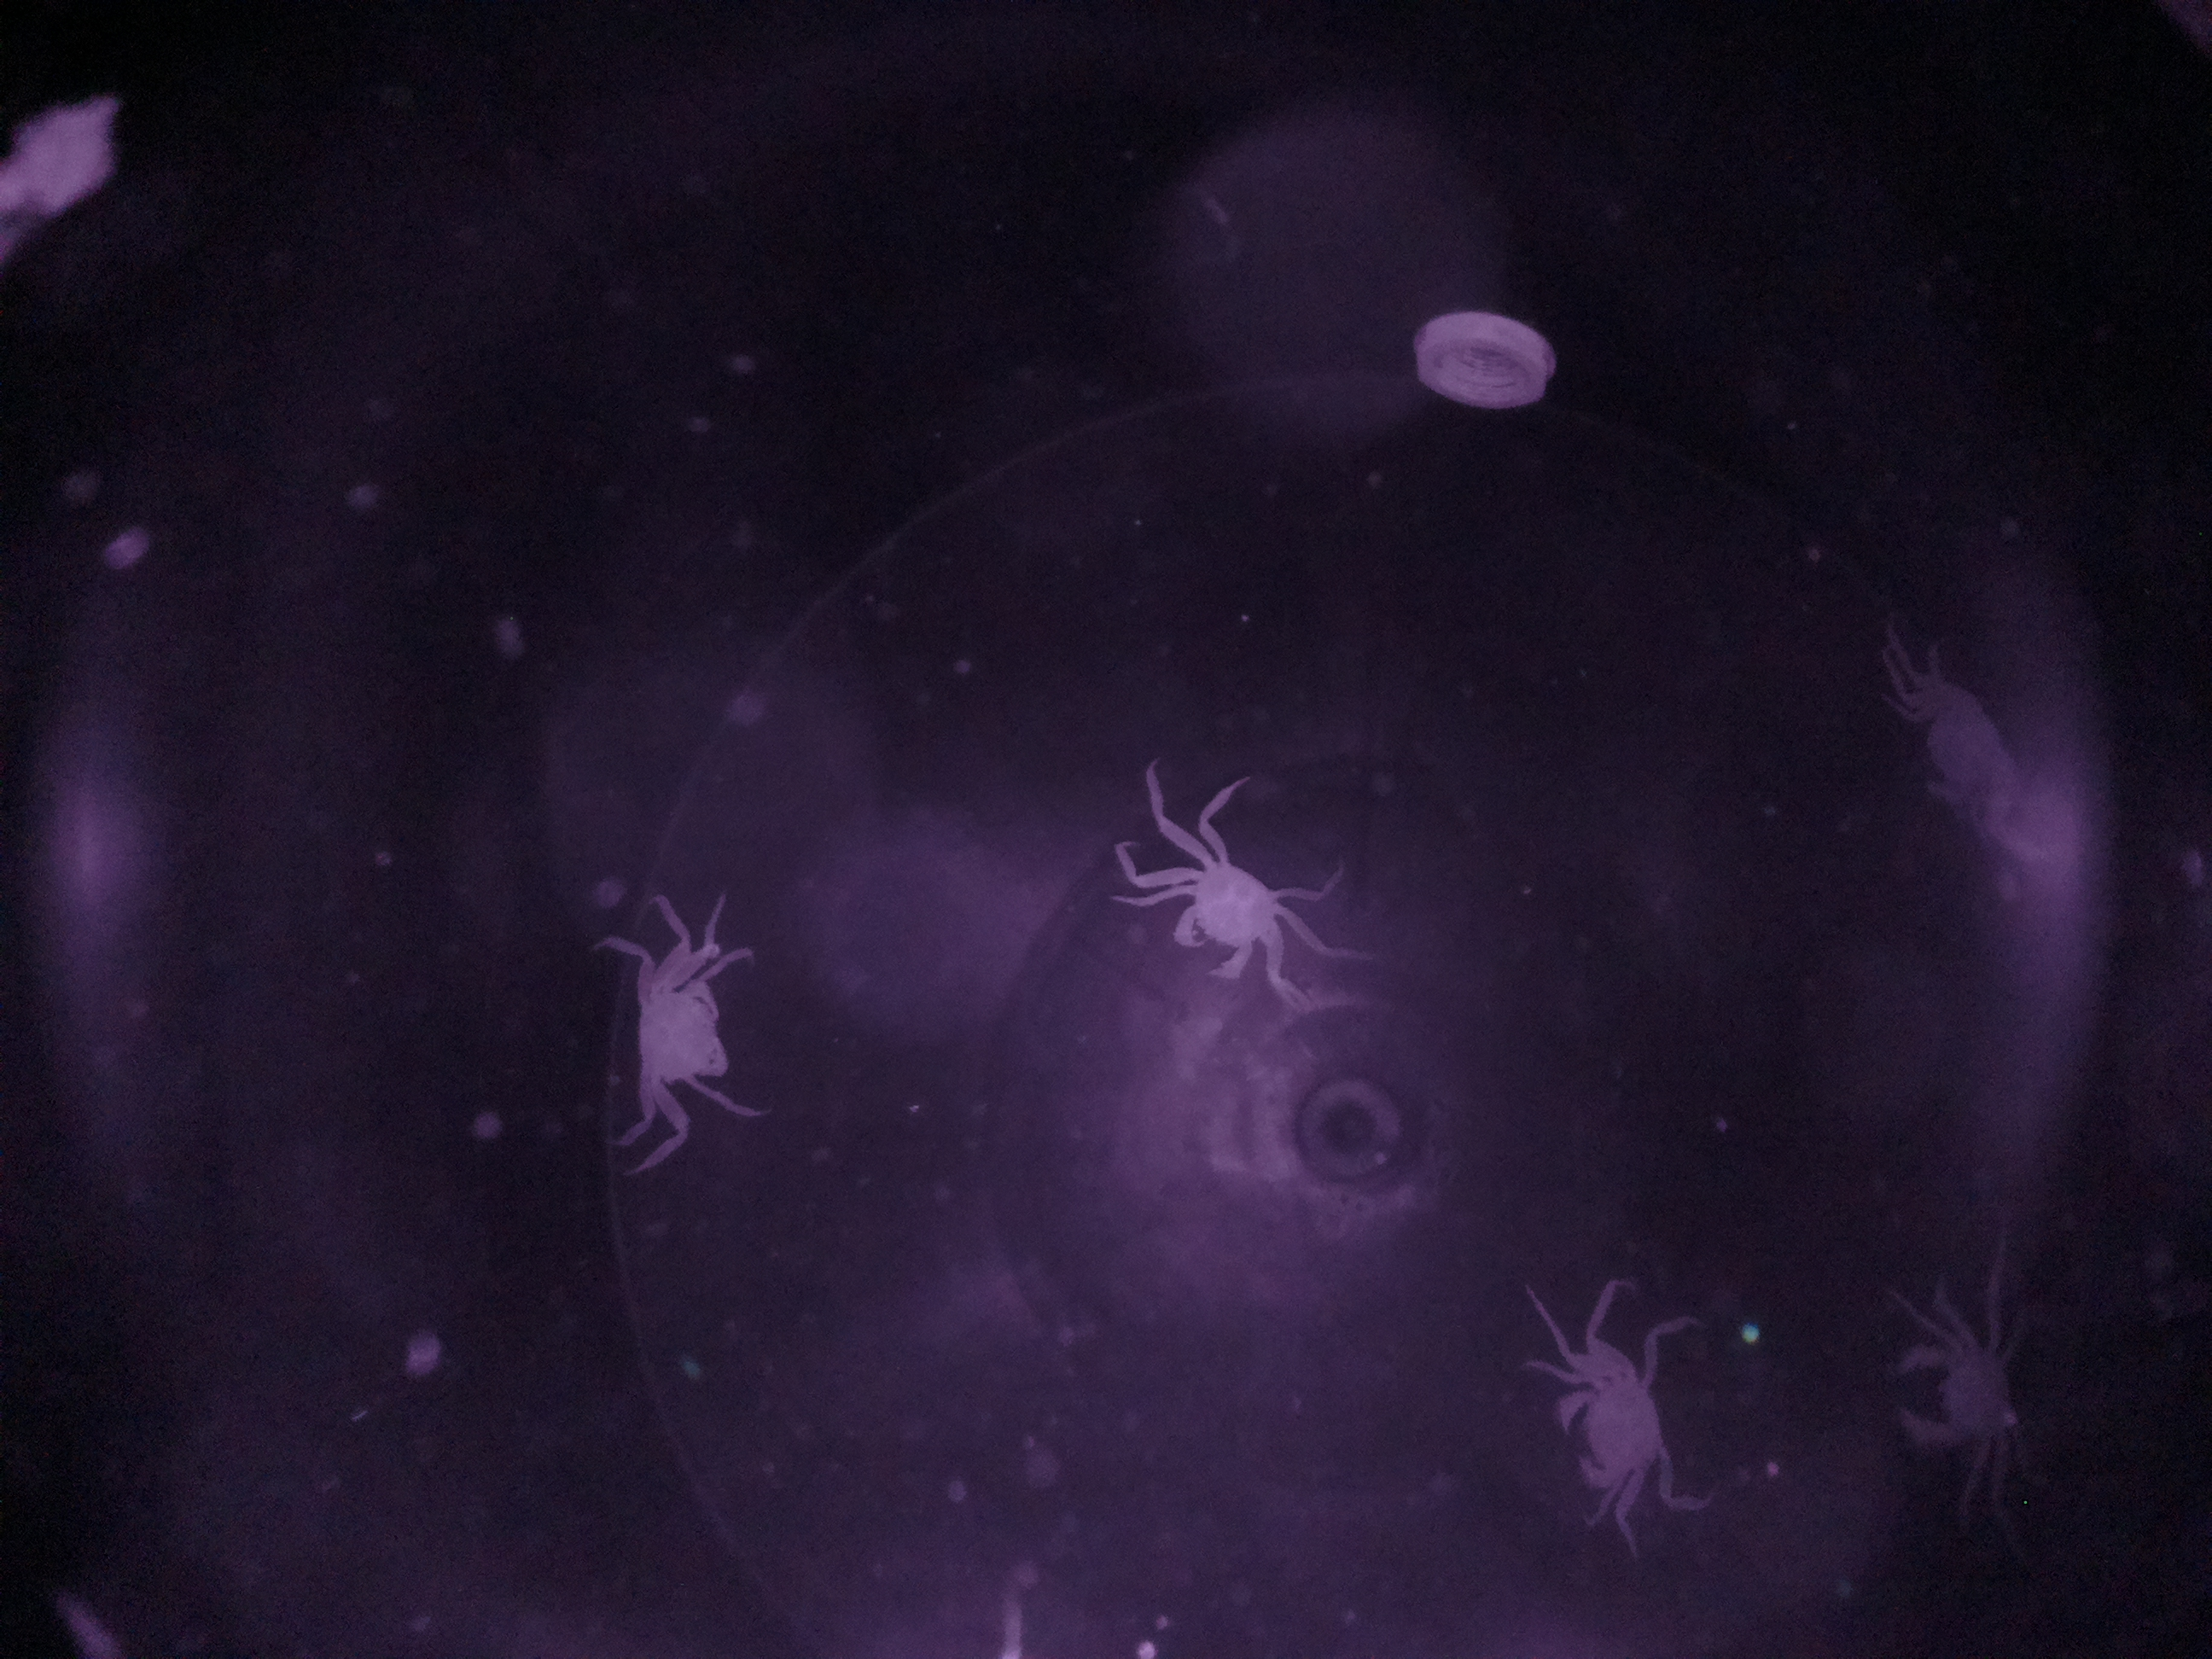Crab: (1141, 810, 1318, 1007), (1548, 1323, 1689, 1525), (608, 936, 758, 1122), (1879, 1328, 2036, 1480)
